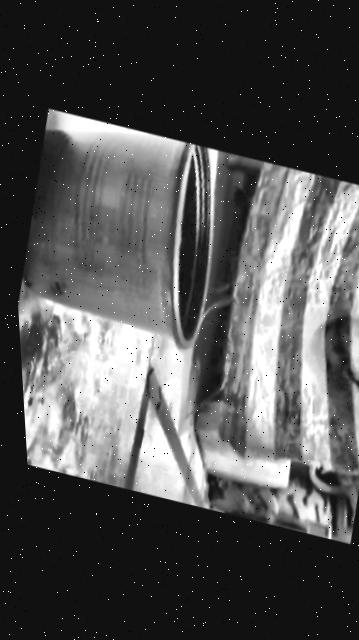pot: (6, 106, 239, 355)
